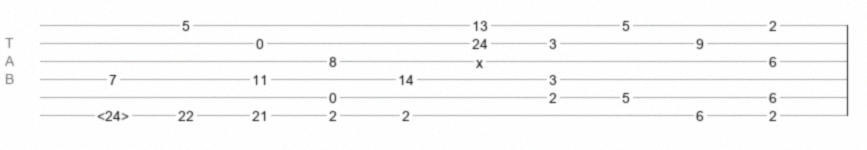0: (256, 36, 264, 46), (329, 90, 337, 100)
11: (252, 72, 268, 82)
13: (472, 18, 488, 28)
14: (398, 72, 414, 82)
2: (329, 108, 337, 118), (402, 108, 410, 118), (549, 90, 557, 100), (769, 18, 777, 28), (769, 108, 777, 118)
21: (252, 108, 268, 118)
22: (178, 108, 194, 118)
24: (472, 36, 488, 46)
3: (549, 36, 557, 46), (549, 72, 557, 82)
5: (182, 18, 190, 28), (622, 90, 630, 100), (622, 18, 630, 28)
6: (696, 108, 704, 118), (769, 90, 777, 100), (769, 54, 777, 64)
7: (109, 72, 117, 82)
8: (329, 54, 337, 64)
9: (696, 36, 704, 46)
harmonic: (97, 108, 129, 118)
x: (476, 55, 483, 63)
